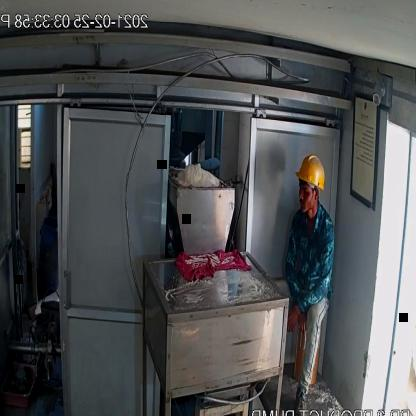helmet: (290, 151, 326, 196)
